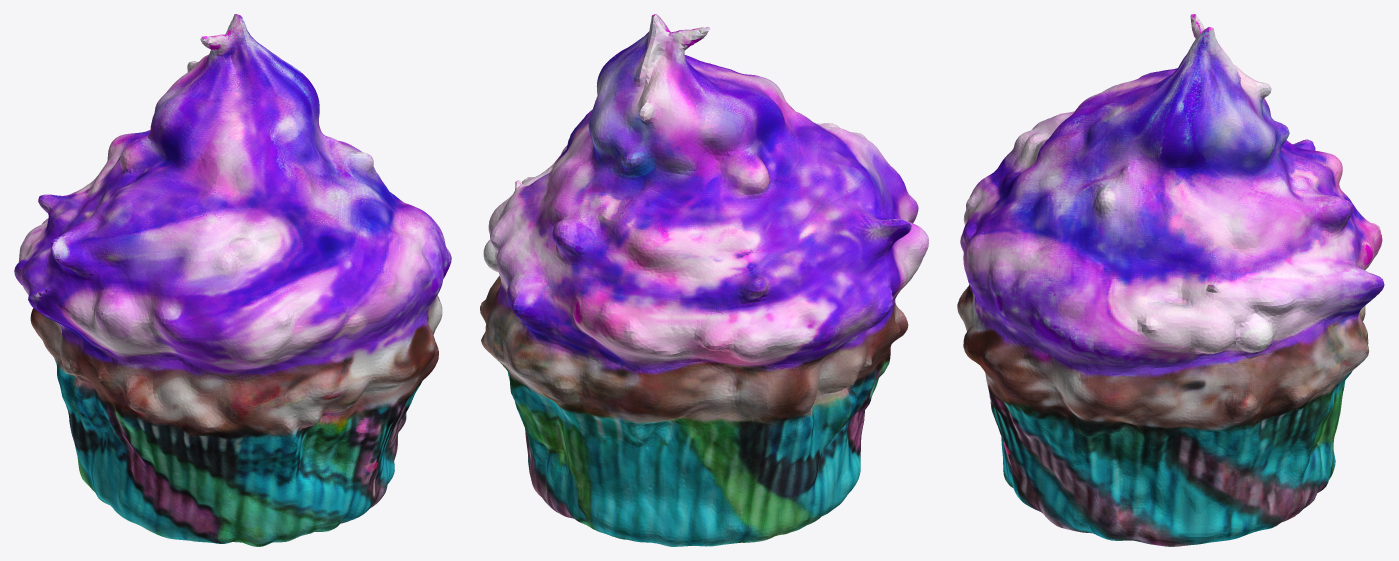
File: cupcake.glb
3 views of the same model, side by side, from view 1: azimuth 30°, elevation 25°; view 2: azimuth 150°, elevation 25°; view 3: azimuth 270°, elevation 25° (orthographic). The views are drawn at different scales.
Size of the model in its own units: 1.67 by 2.05 by 1.62.
Materials: 1 (1 with a texture image).
